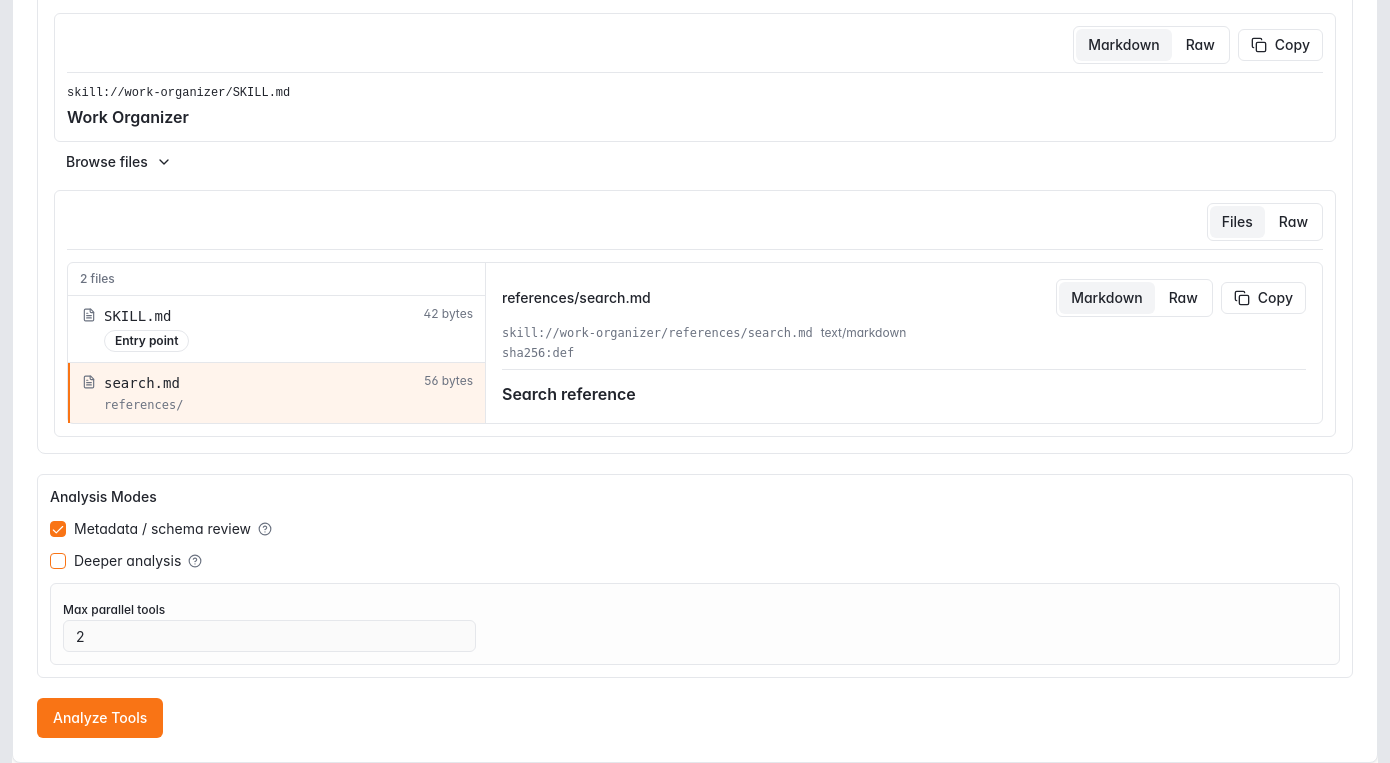
Scenario: Analyze MCP catalog › groups the skill file and manifest on demand while keeping both entries in Resources
The width and height of the screenshot is (1390, 763).
Earlier steps of the test are not shown.
(page scrolled)
Expected: the heading "Search reference" is shown, [502,384,636,404]
Expected: the text "sha256:def" is shown, [502,346,574,360]
Click the 2nd button "Raw". click: point(1293, 222)
box: [1267,206,1320,238]
(page scrolled)
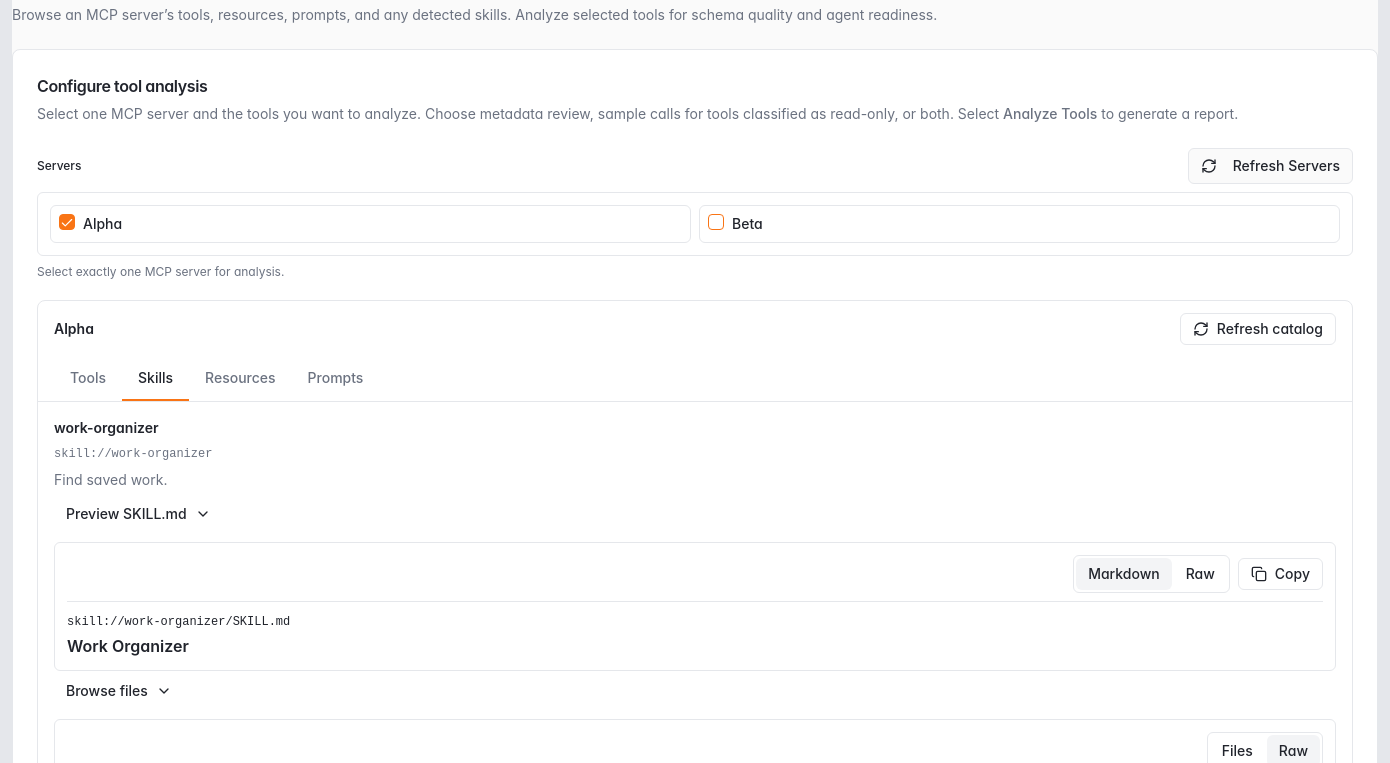
Press Enter in the tab "Resources", box [189,357,292,401]
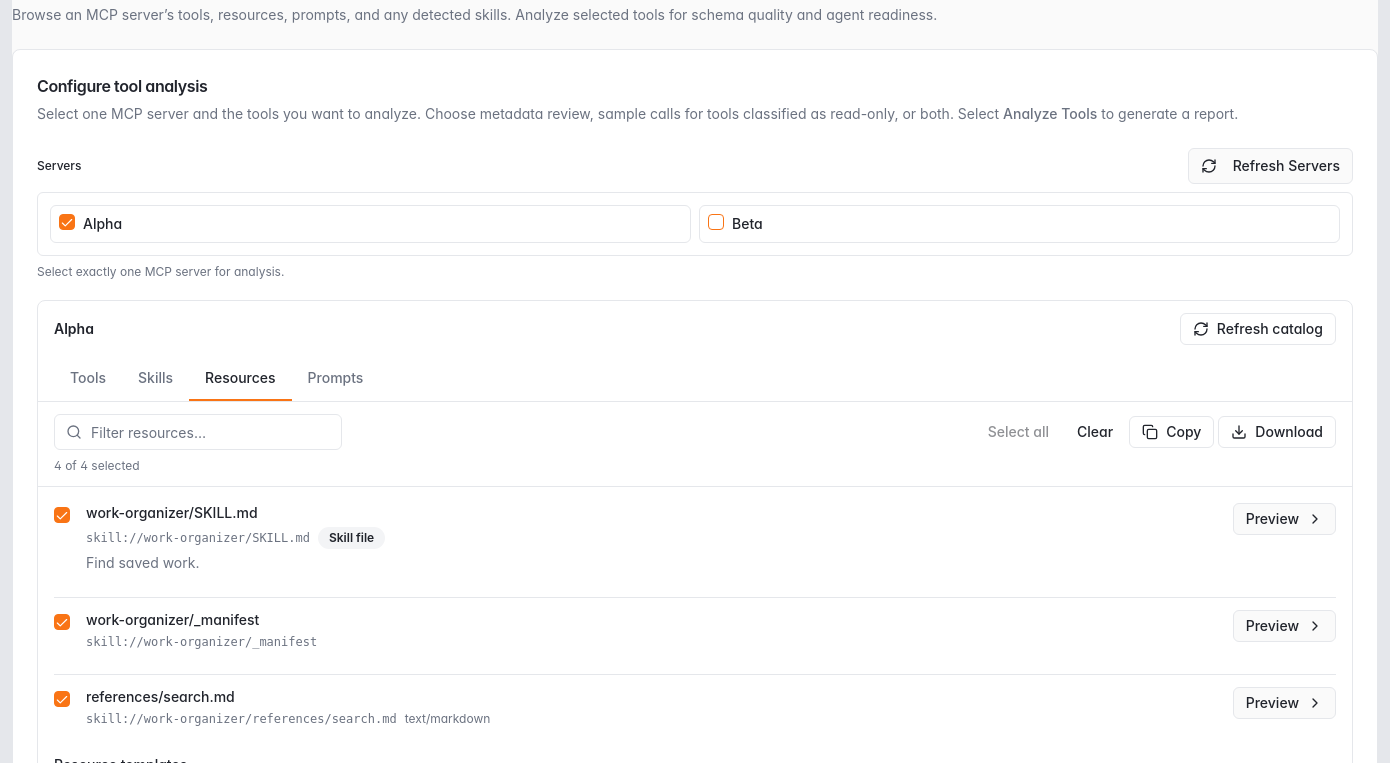
Now the 3rd checkbox named "work-organizer/SKILL.md" is shown, box [54,507,70,523]
Now the 4th checkbox named "work-organizer/_manifest" is shown, box [54,614,70,630]
Click the button with aria-label "Preview references/search.md". click: point(1284, 703)
box: [1233,687,1336,719]
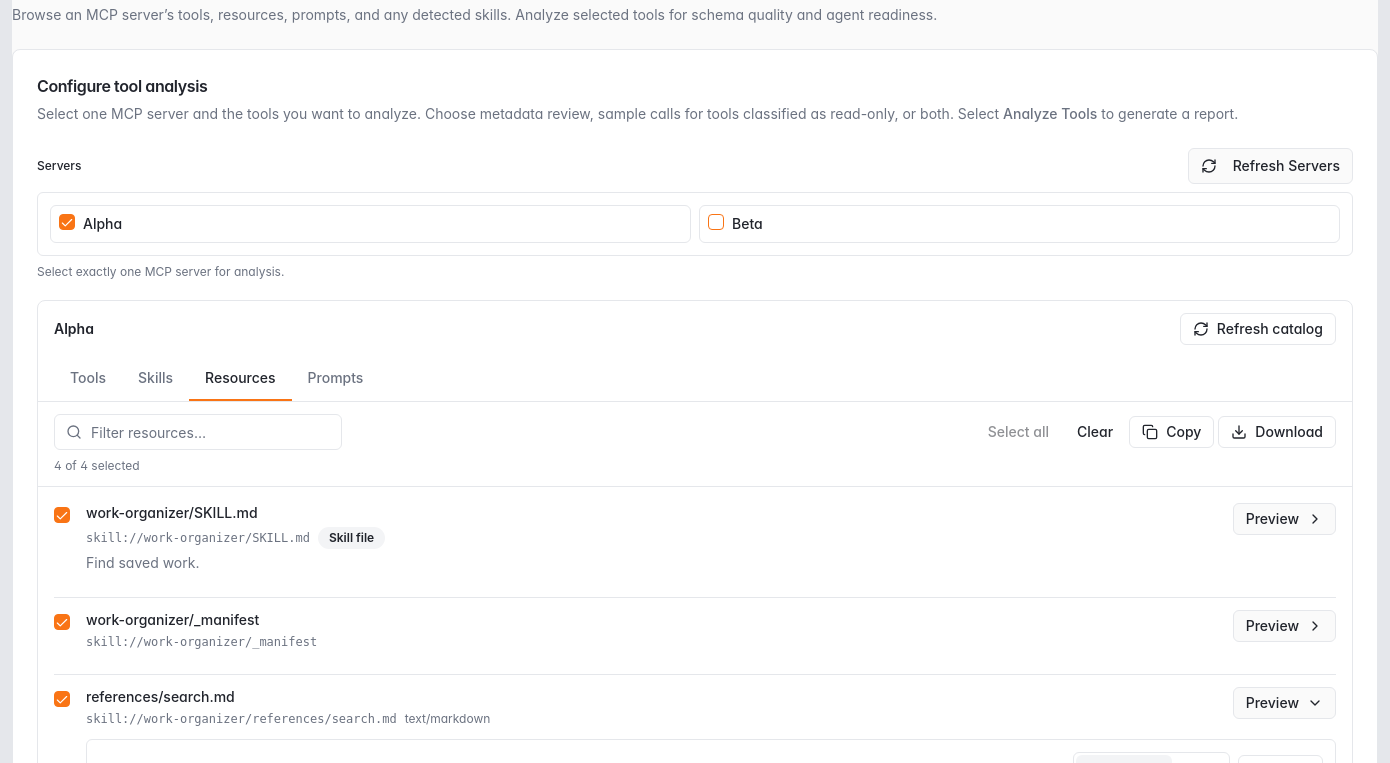
Now the text "skill://work-organizer/references/search.md" is shown once, box [86,711,397,727]
Now the text "text/markdown" is shown once, box [405,711,490,727]
Click the button with aria-label "Preview work-organizer/_manifest". click: point(1284, 626)
box: [1233,610,1336,642]
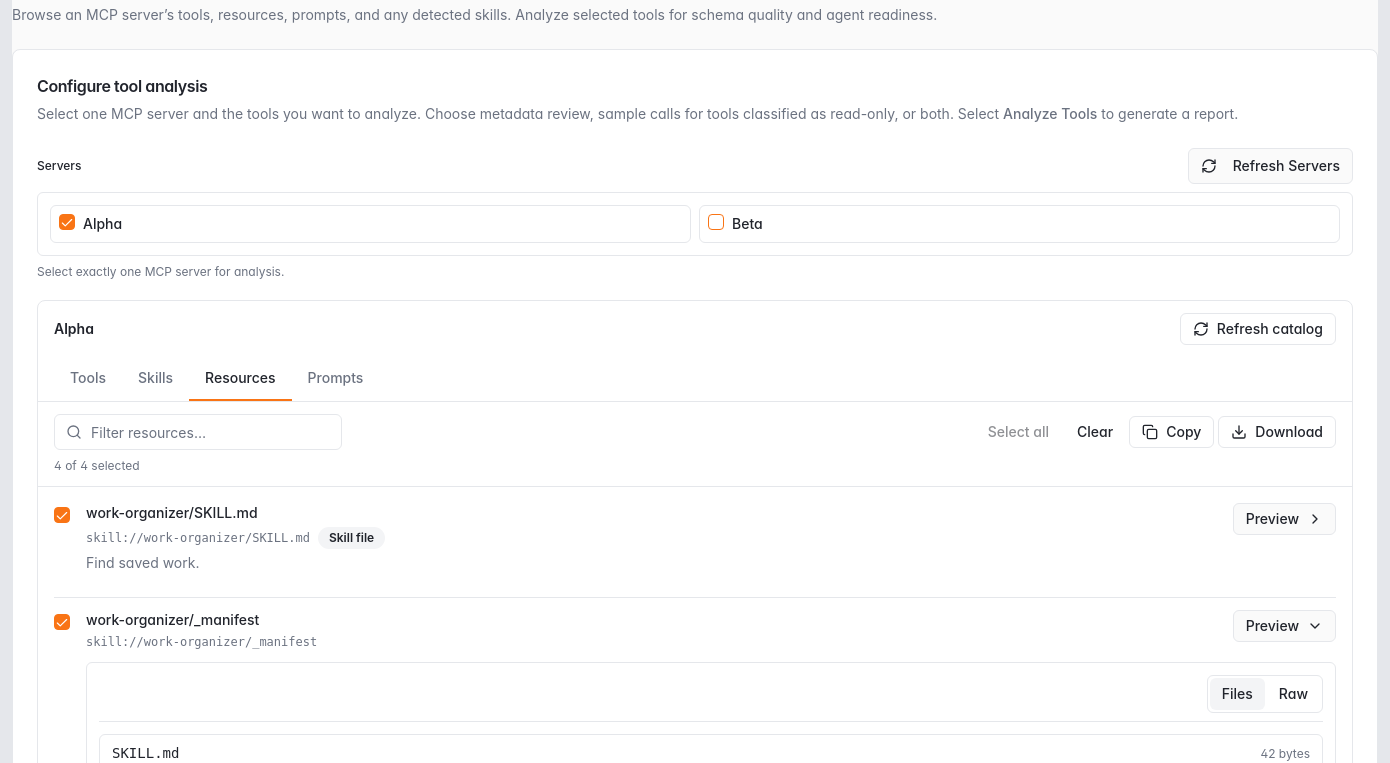
Press Enter in the tab "Skills", box [122,357,189,401]
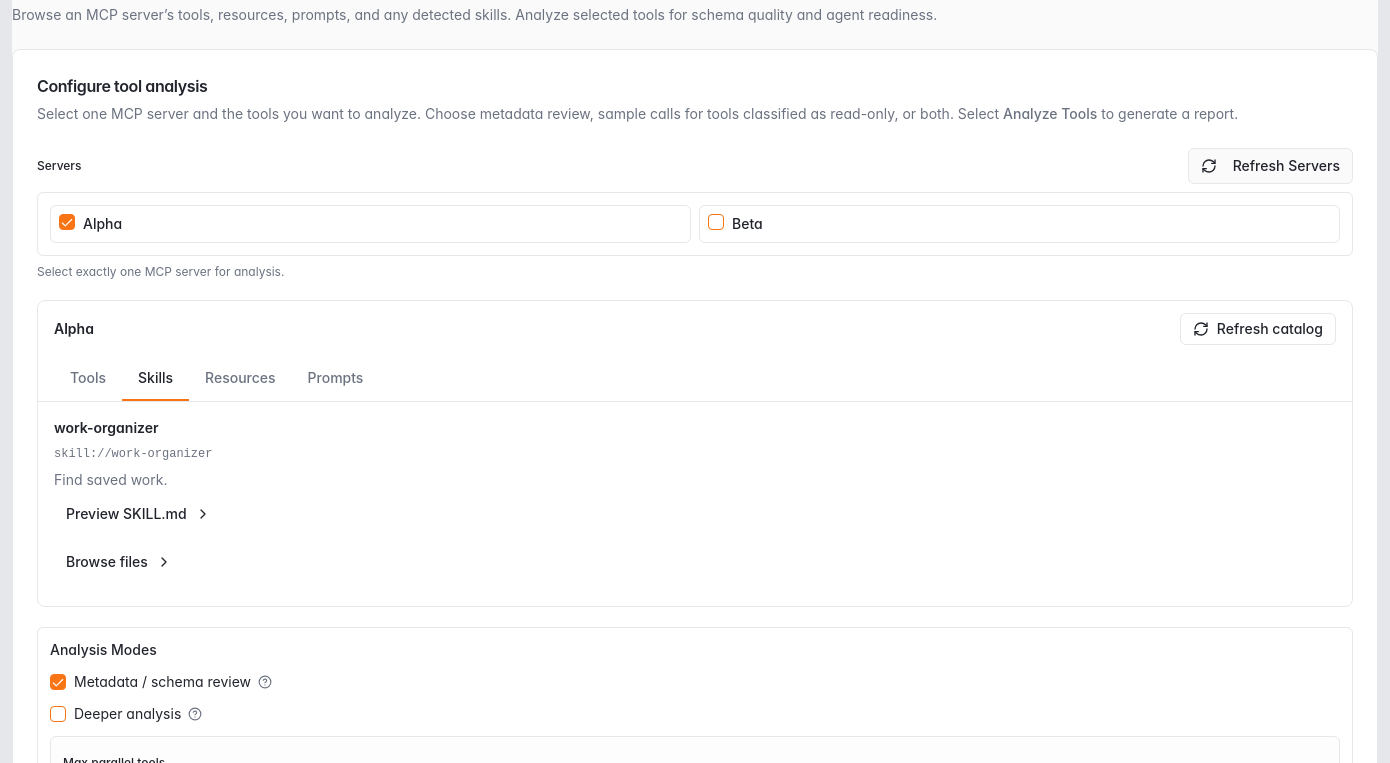
Click the 1st checkbox named "Alpha". click: point(67, 222)
box: [59,214,75,230]
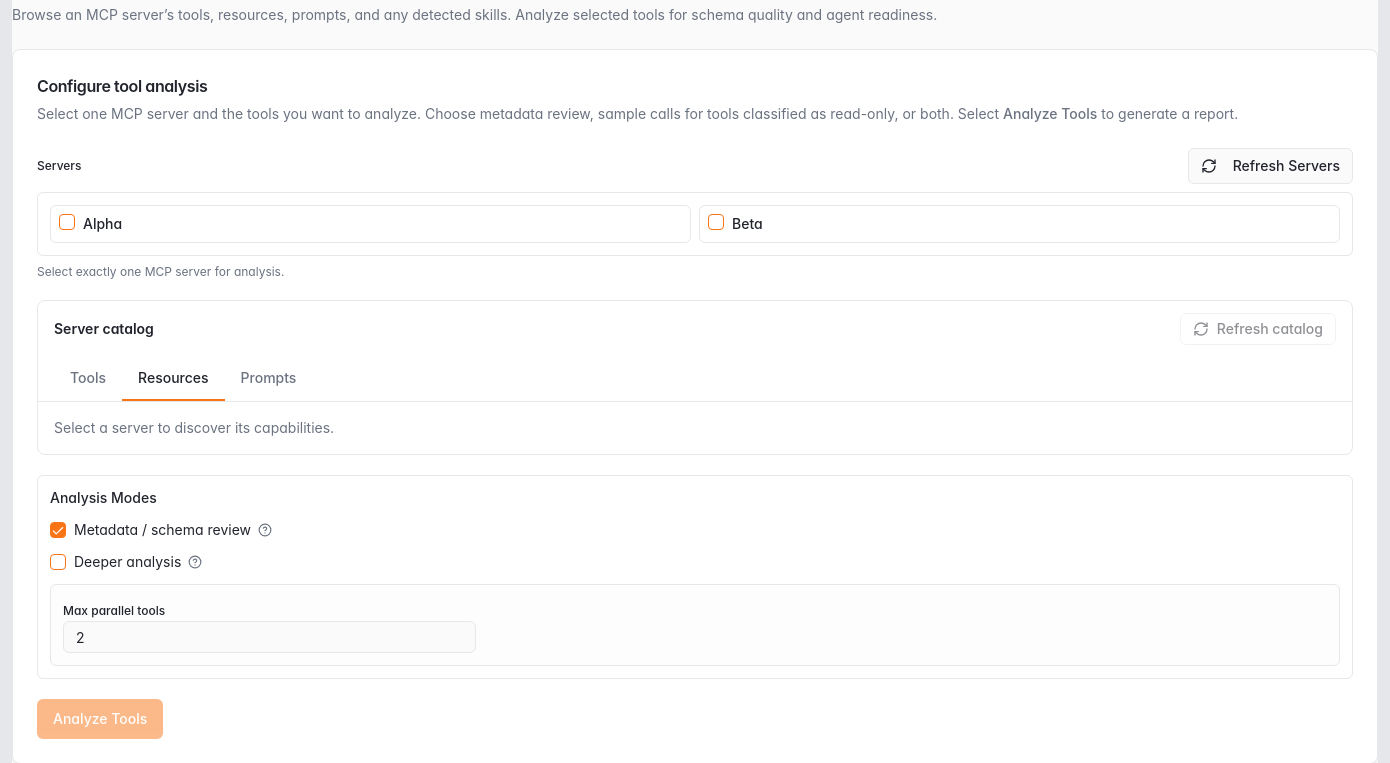
Now the tab "Resources" is selected, box [122,357,224,401]
